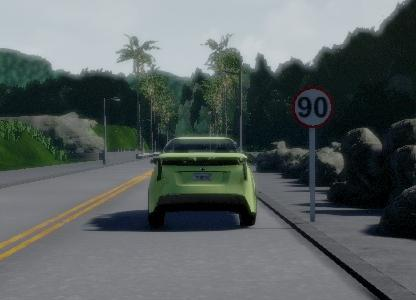Speed_90: (288, 84, 337, 130)
